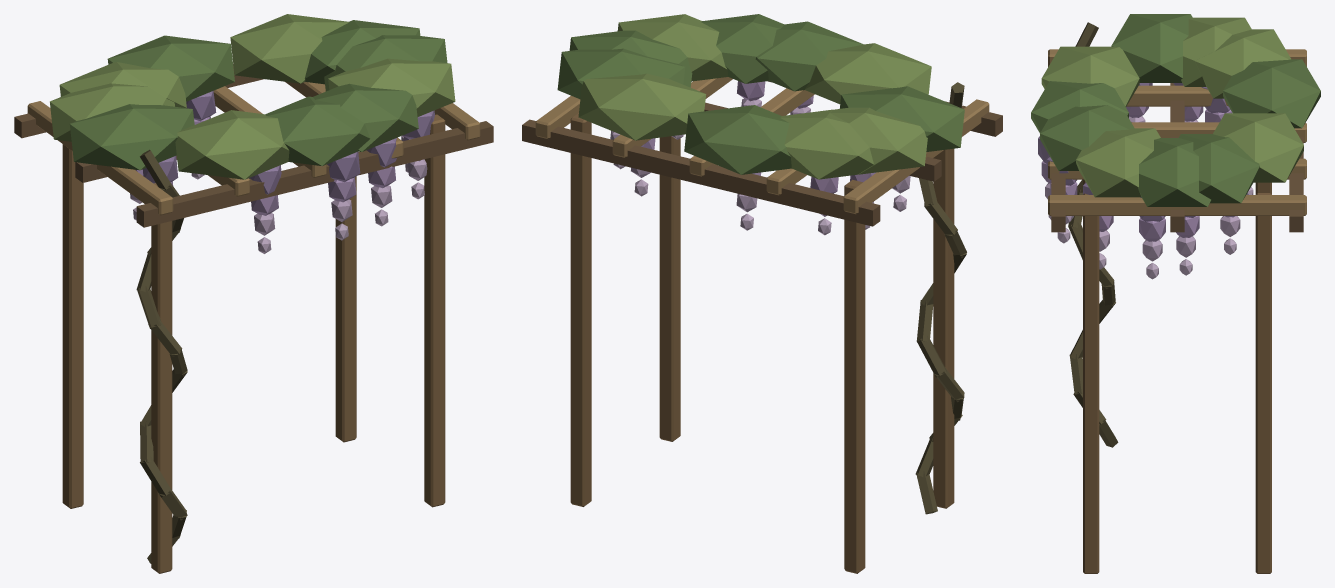
File: nature-wisteria.glb
3 renders of one model, left to right at view 1: azimuth 30°, elevation 25°; view 2: azimuth 150°, elevation 25°; view 3: azimuth 270°, elevation 25°, orthographic. The views are drawn at different scales.
Parts seen in each view (by area): view 1: SculptedModel; view 2: SculptedModel; view 3: SculptedModel.
Boxes of the visible parts, box(x1,y1,x2,y2) form: SculptedModel: box(14, 14, 493, 573); SculptedModel: box(522, 14, 1002, 573); SculptedModel: box(1031, 14, 1320, 573).
Size of the model in its own units: 2.18 by 2.4 by 1.48.
